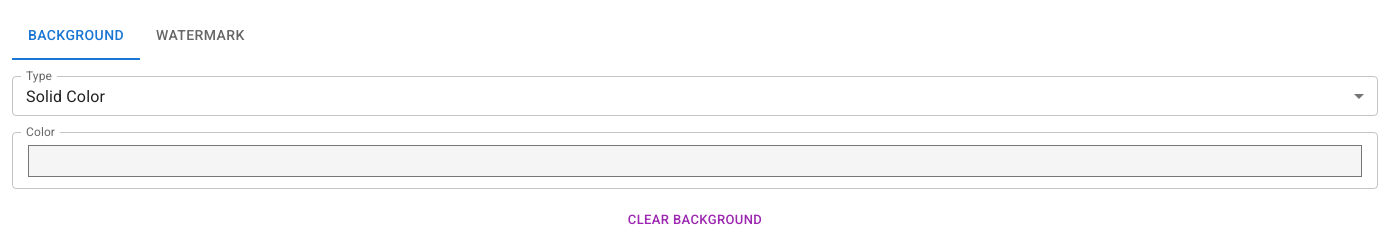
Test: BackgroundWatermarkPanel — watermark › shows "Add Watermark" when there is no watermark yet
Click the tab "Watermark": {"x": 200, "y": 36} [140,12,261,60]
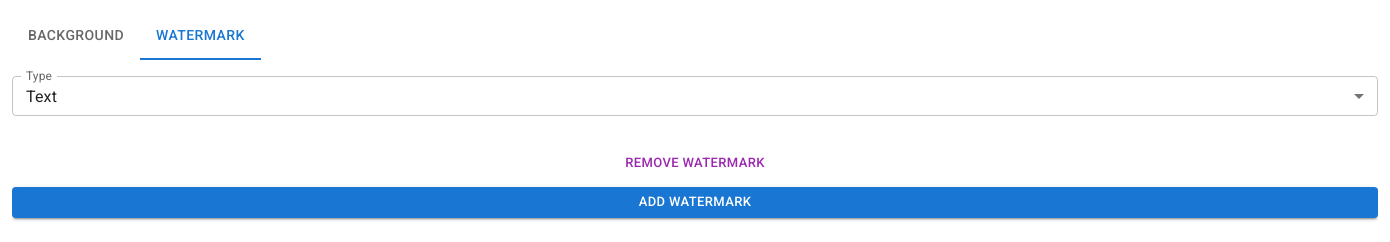
Now the button "Add Watermark" is shown, box [12,187,1378,218]
Now the button "Remove Watermark" is shown, box [12,148,1378,179]
